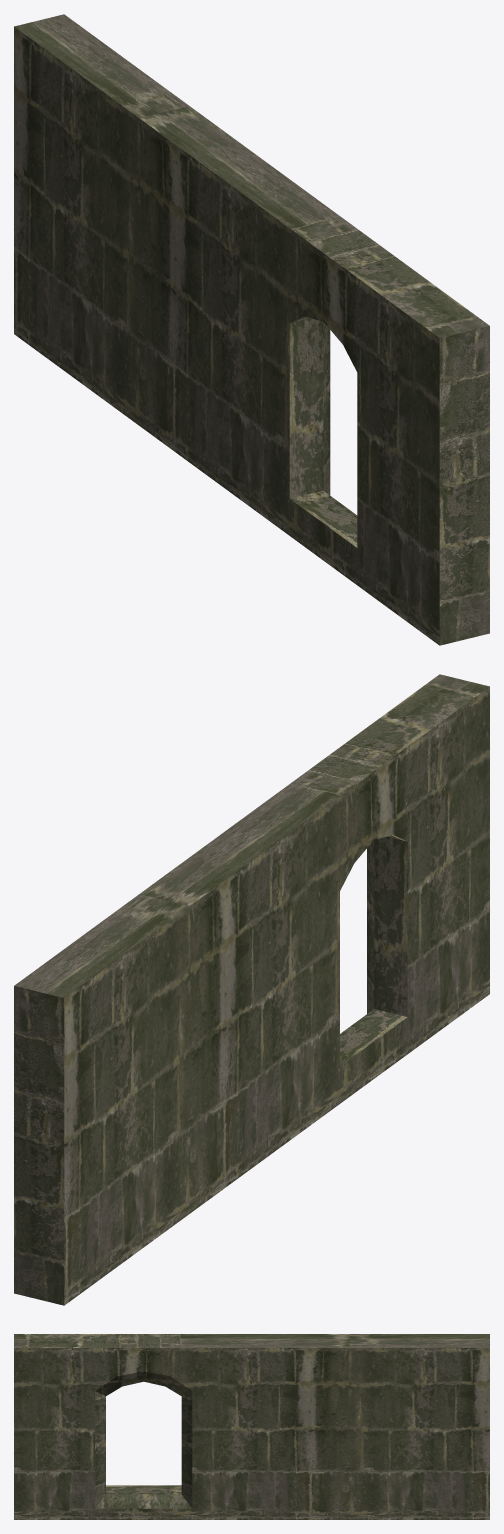
Rendered from HorizontalHalfWall_Window_L.fbx.
3 renders of one model, top to bottom at view 1: azimuth 30°, elevation 25°; view 2: azimuth 150°, elevation 25°; view 3: azimuth 270°, elevation 25°, orthographic. The views are drawn at different scales.
Parts seen in each view (by area): view 1: HorizontalHalfWall_Window_L; view 2: HorizontalHalfWall_Window_L; view 3: HorizontalHalfWall_Window_L.
Boxes of the visible parts, x1,y1,x2,y2 form: HorizontalHalfWall_Window_L: (14, 14, 489, 645); HorizontalHalfWall_Window_L: (14, 674, 489, 1305); HorizontalHalfWall_Window_L: (14, 1334, 489, 1519).
Size of the model in its own units: 51 by 298 by 748.
